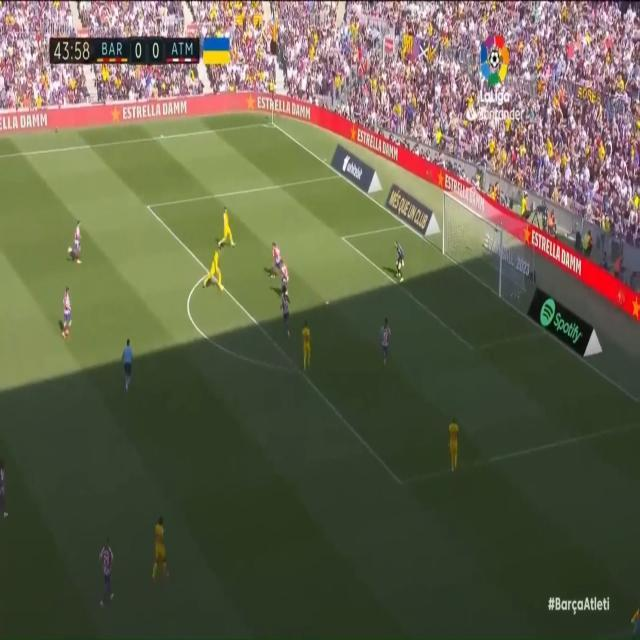goalkeeper: (394, 234, 406, 286)
player: (96, 532, 117, 605), (150, 512, 170, 588), (443, 417, 463, 478), (65, 218, 87, 271), (297, 314, 315, 373), (203, 252, 226, 297), (0, 453, 14, 520), (62, 283, 77, 338), (268, 239, 282, 287), (219, 206, 233, 245), (380, 315, 392, 359), (280, 284, 292, 328), (280, 259, 291, 294)
referee: (120, 339, 138, 390), (629, 591, 640, 636)
